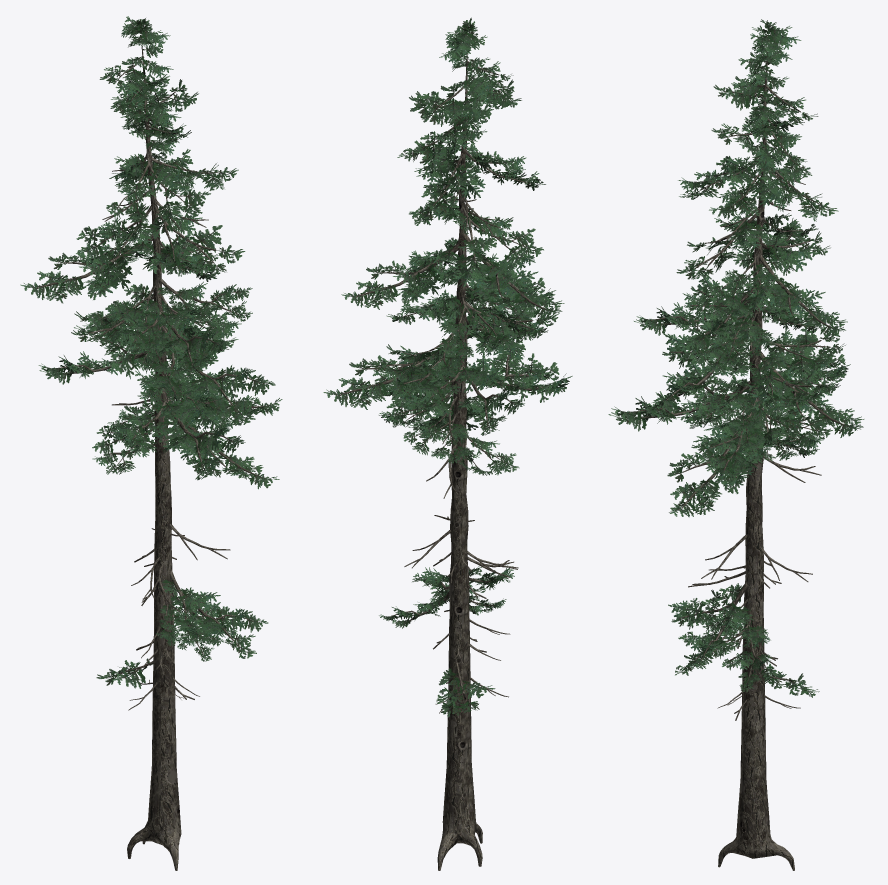
File: Tree2-4-HalfLeaves.fbx
The picture shows the model from 3 angles, left to right: view 1: azimuth 30°, elevation 25°; view 2: azimuth 150°, elevation 25°; view 3: azimuth 270°, elevation 25°; orthographic projection.
Parts seen in each view (by area): view 1: Tree2-4-HalfLeaves_LOD0; view 2: Tree2-4-HalfLeaves_LOD0; view 3: Tree2-4-HalfLeaves_LOD0.
Boxes of the visible parts, box(x1,y1,x2,y2) form: Tree2-4-HalfLeaves_LOD0: box(20, 16, 282, 870); Tree2-4-HalfLeaves_LOD0: box(323, 17, 572, 870); Tree2-4-HalfLeaves_LOD0: box(608, 19, 864, 870).
Size of what is drawn, in the model's own units: 4.92 by 4.93 by 17.22.
